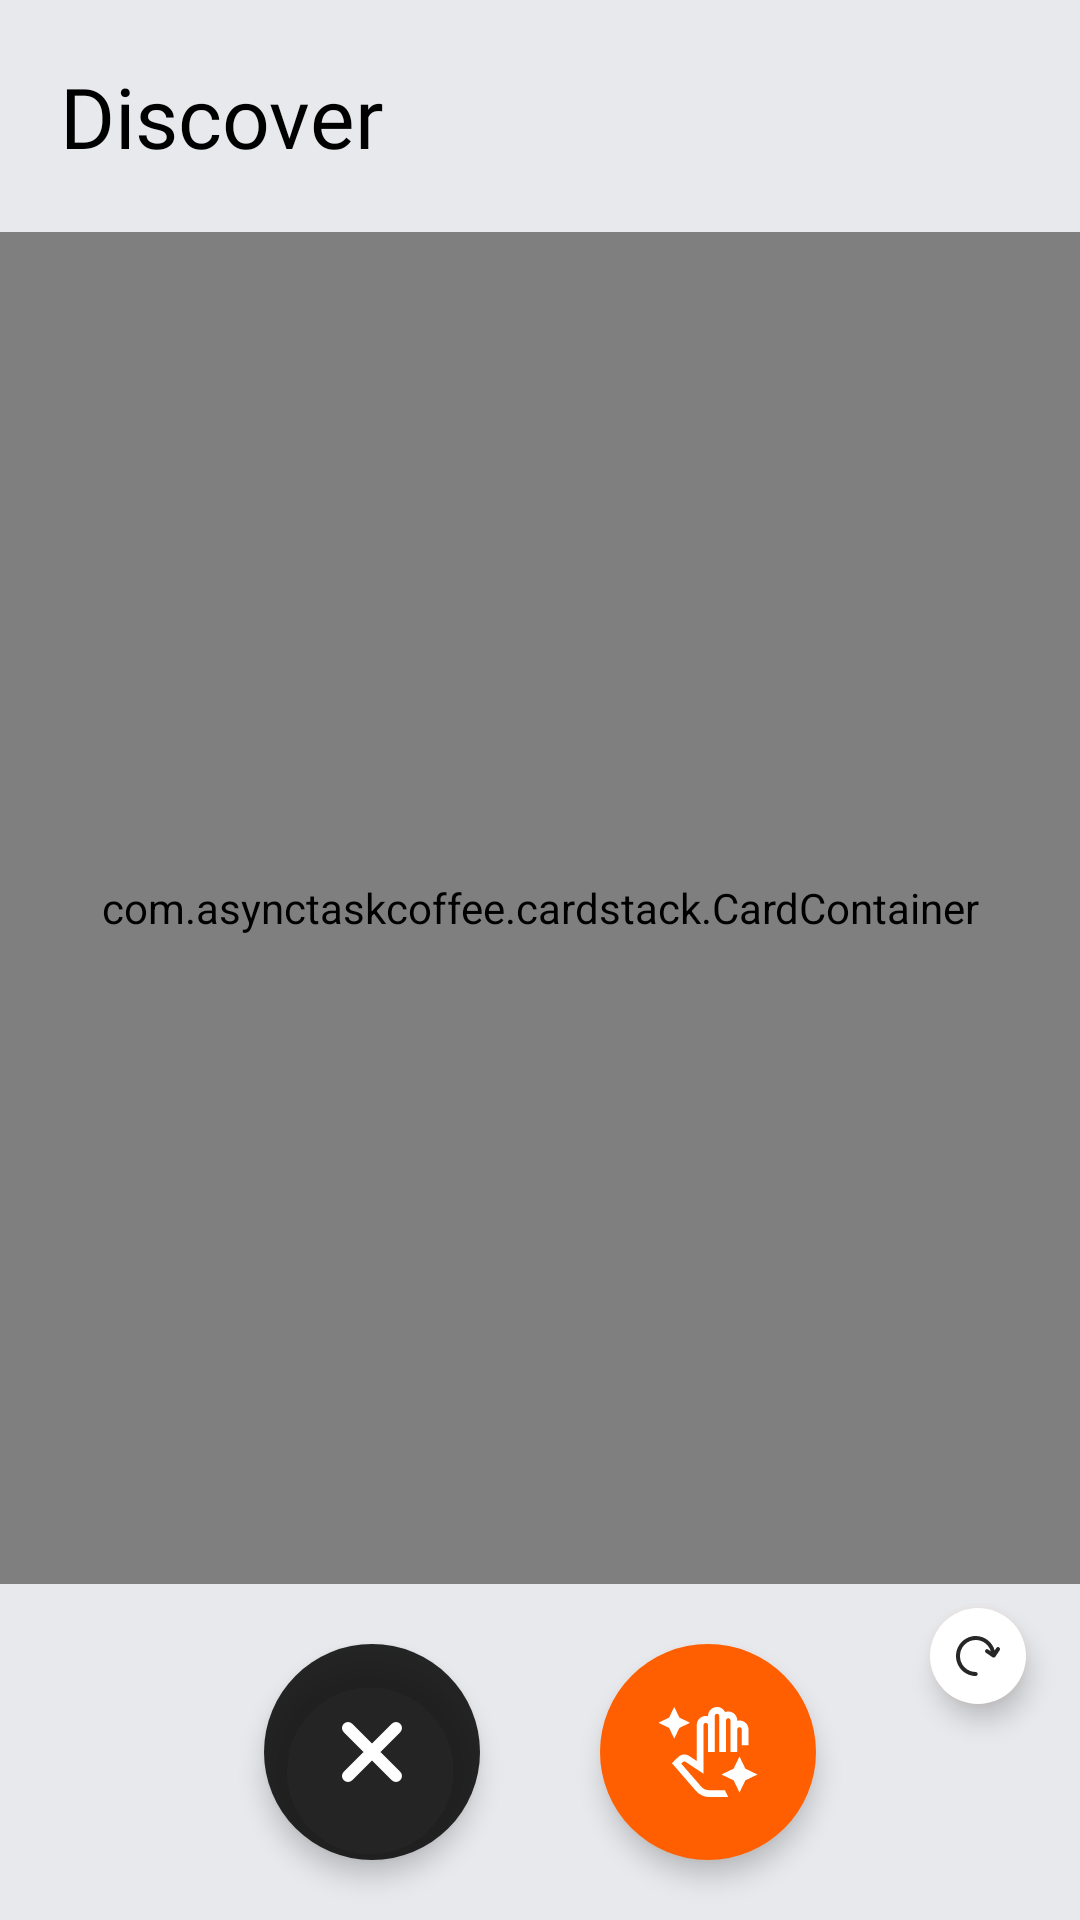

Screen size 1080×1920. Icon name, then its box in pixels as (x1, y1, x2, y2):
cross: (264, 1644, 480, 1860)
highfi: (600, 1644, 816, 1860)
reload: (930, 1608, 1028, 1716)
